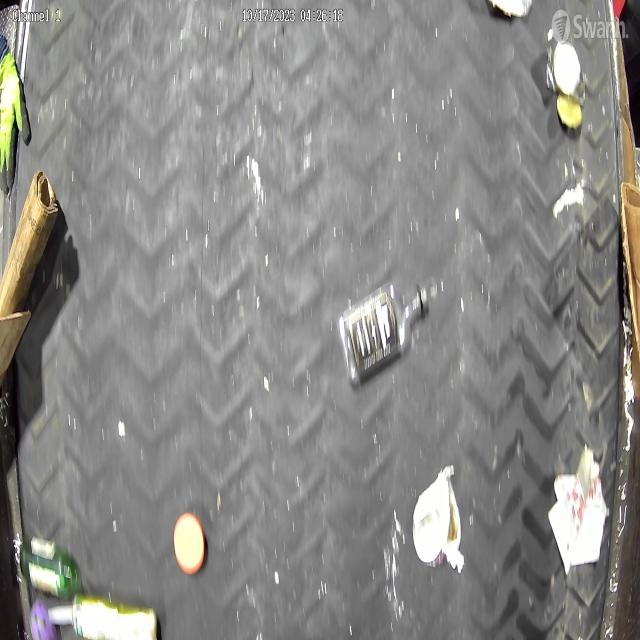plastic_bottle: (338, 280, 429, 386)
